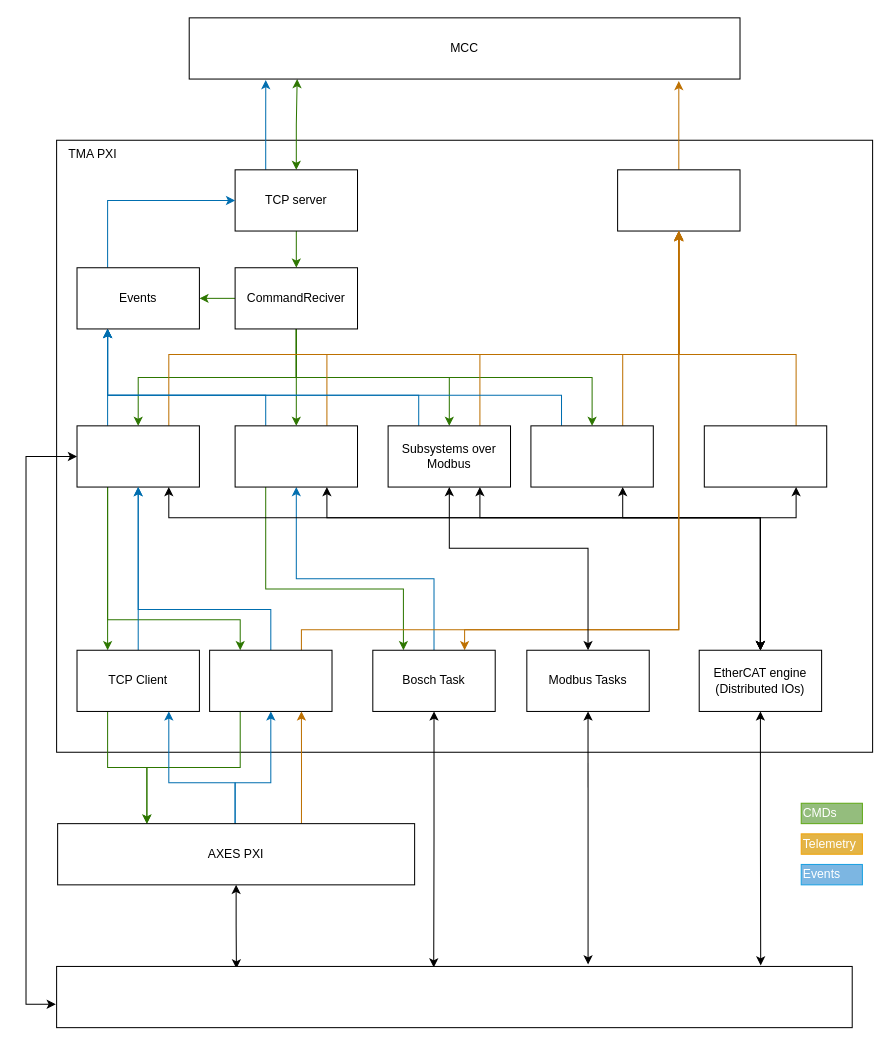
Some shapes in this 890 by 1046 pixel diagram are drawn without their labels. Each missing label, with the centre of its shape:
"Main Axes" goes at (x=137, y=456).
"Network Shared Variable Engine" goes at (x=678, y=200).
"Network streams tasks" goes at (x=270, y=680).
"Subsystems over Bosch" goes at (x=296, y=456).
"TelemetryTask" goes at (x=765, y=456).
"TELESCOPE" goes at (x=454, y=996).
"Temperature controllers over EtherCAT" goes at (x=591, y=456).
